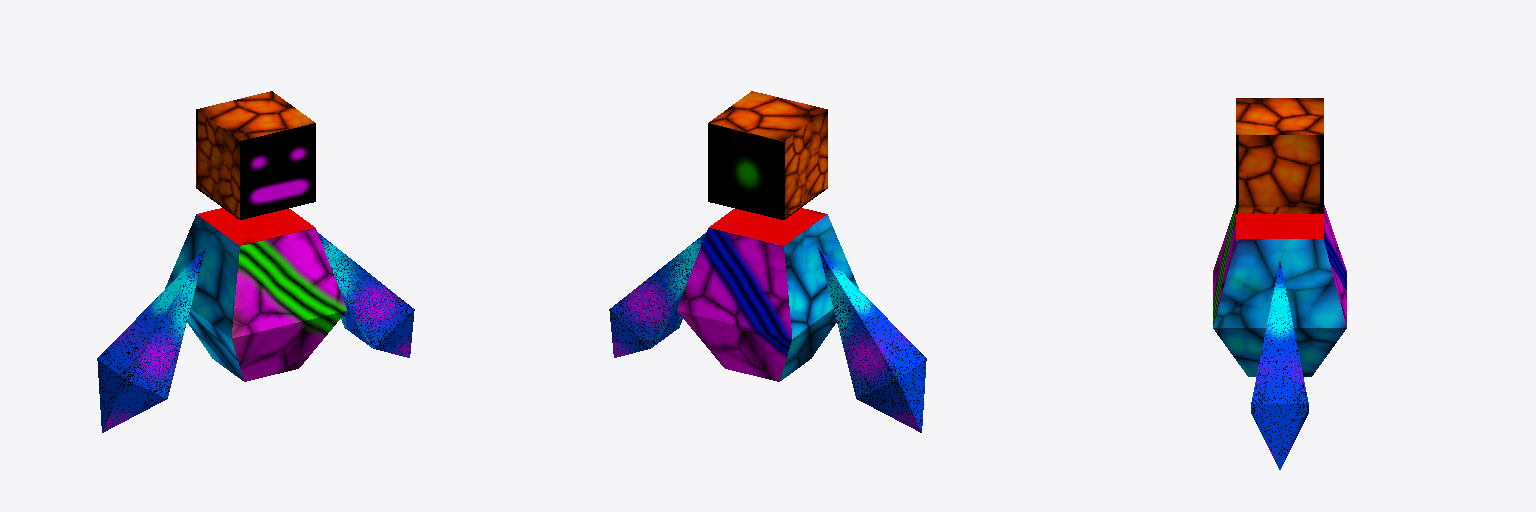
3 renders of one model, left to right at view 1: azimuth 30°, elevation 25°; view 2: azimuth 150°, elevation 25°; view 3: azimuth 270°, elevation 25°, orthographic.
Parts seen in each view (by area): view 1: 立方体.001; view 2: 立方体.001; view 3: 立方体.001.
Boxes of the visible parts, x1,y1,x2,y2 form: 立方体.001: [97, 91, 414, 432]; 立方体.001: [609, 91, 926, 432]; 立方体.001: [1213, 98, 1346, 469].
Bounding box in the file's own units: 3.08 × 2.68 × 1.16.
1 materials, 1 textured.